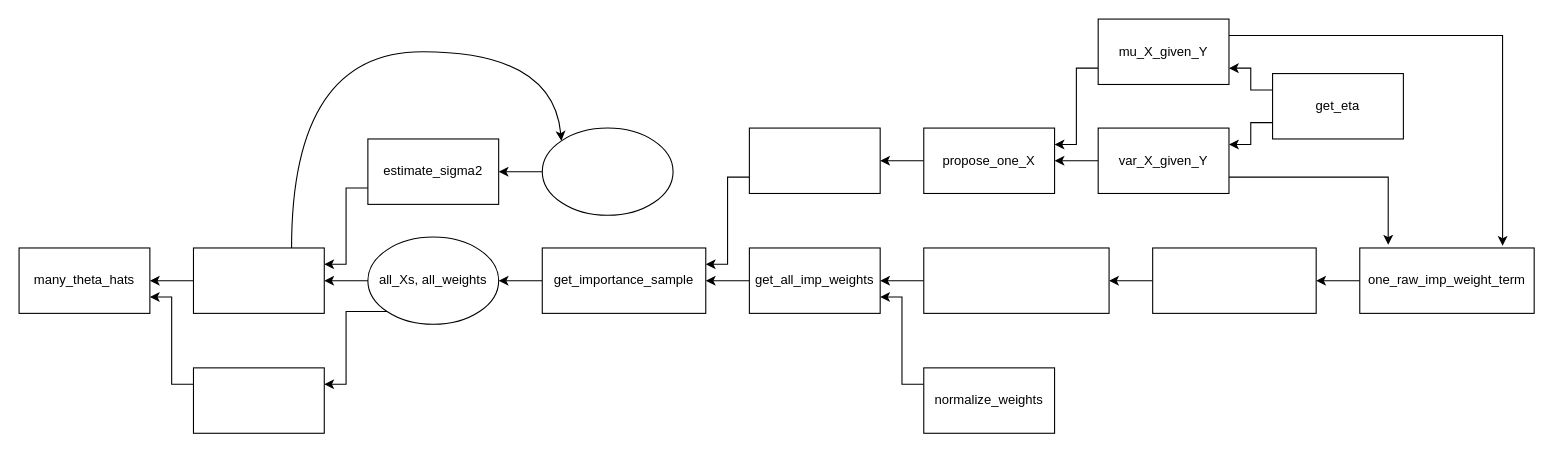
The diagram is 1553 pixels wide and 452 high, and some of its shapes have lost their labels. The shapes that lost their labels are listed below. From the top down, each one's centre as x and y in pixels, then its label:
pixel 607 171: beta_hat
pixel 814 160: propose_X
pixel 258 280: MCEM_update
pixel 1016 280: get_all_log_raw_imp_weights
pixel 1234 280: one_log_raw_imp_weight
pixel 258 400: get_ESS
